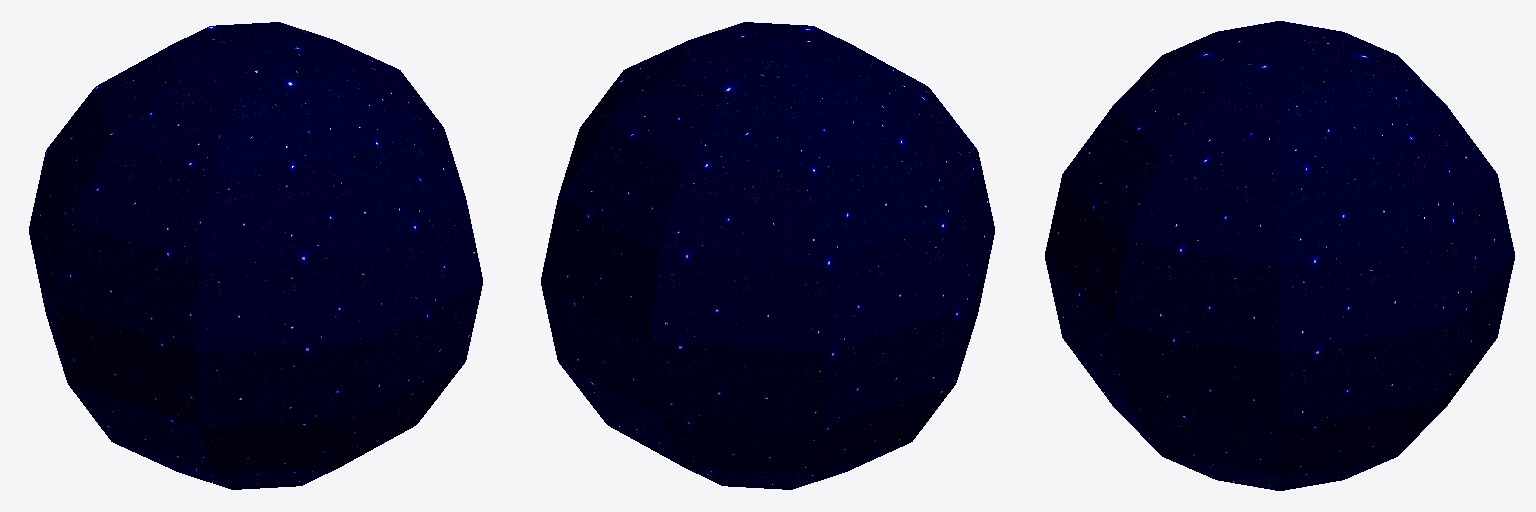
The picture shows the model from 3 angles: view 1: azimuth 30°, elevation 25°; view 2: azimuth 150°, elevation 25°; view 3: azimuth 270°, elevation 25°; orthographic projection.
Parts seen in each view (by area): view 1: polygon0.043; view 2: polygon0.043; view 3: polygon0.043.
Boxes of the visible parts, x1=… form: polygon0.043: x1=29, y1=22, x2=482, y2=489; polygon0.043: x1=541, y1=22, x2=994, y2=489; polygon0.043: x1=1045, y1=21, x2=1514, y2=490.
Size of the model in its own units: 1379 by 1379 by 1379.
Materials: 1 (1 with a texture image).